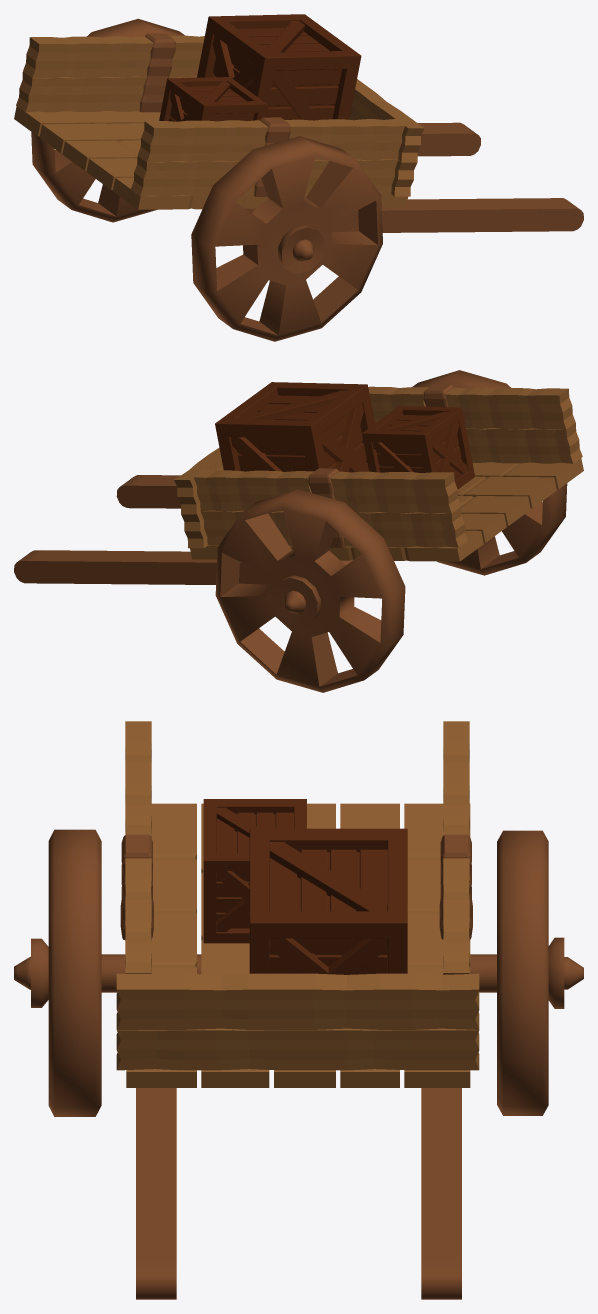
Rendered from carro1.fbx.
3 renders of one model, top to bottom at view 1: azimuth 30°, elevation 25°; view 2: azimuth 150°, elevation 25°; view 3: azimuth 270°, elevation 25°, orthographic. The views are drawn at different scales.
Parts seen in each view (by area): view 1: Cube.002; view 2: Cube.002; view 3: Cube.002.
Part boxes in pixels (x1,y1,x2,y2): Cube.002: (14, 14, 583, 341); Cube.002: (14, 370, 583, 692); Cube.002: (14, 721, 583, 1299).
Size of the model in its own units: 649 by 301 by 514.
